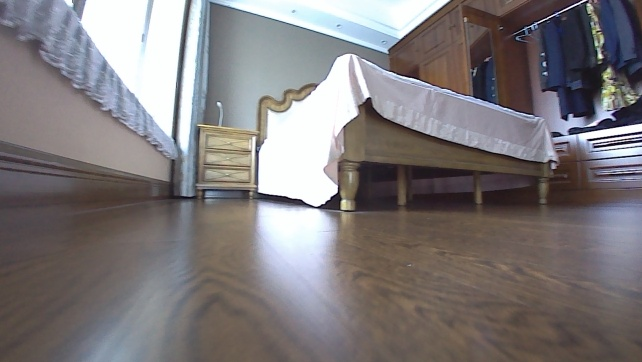bed: (255, 50, 559, 213)
cabinet: (193, 122, 261, 201)
